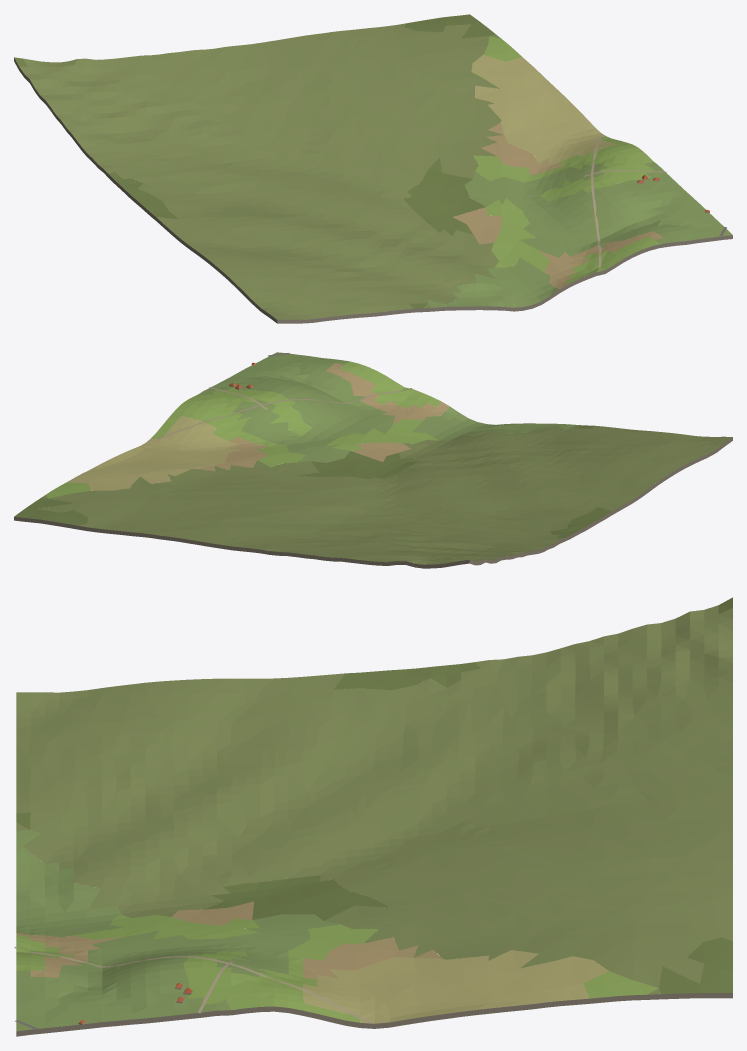
File: parca_+10_-6-uzak.glb
The picture shows the model from 3 angles, top to bottom: view 1: azimuth 30°, elevation 25°; view 2: azimuth 150°, elevation 25°; view 3: azimuth 270°, elevation 25°; orthographic projection. The views are drawn at different scales.
Visible parts, largest first — view 1: parca_+10_-6_arazi_uzak, parca_+10_-6_yollar_uzak; view 2: parca_+10_-6_arazi_uzak, parca_+10_-6_yollar_uzak; view 3: parca_+10_-6_arazi_uzak, parca_+10_-6_yollar_uzak.
Part boxes in pixels (bbox=[...]): parca_+10_-6_arazi_uzak: bbox=[14, 14, 732, 323]; parca_+10_-6_yollar_uzak: bbox=[584, 133, 726, 271]; parca_+10_-6_arazi_uzak: bbox=[14, 352, 732, 568]; parca_+10_-6_yollar_uzak: bbox=[147, 353, 412, 442]; parca_+10_-6_arazi_uzak: bbox=[16, 597, 732, 1036]; parca_+10_-6_yollar_uzak: bbox=[14, 946, 373, 1029].
Bounding box in the file's own units: 1004 × 254 × 1003.
